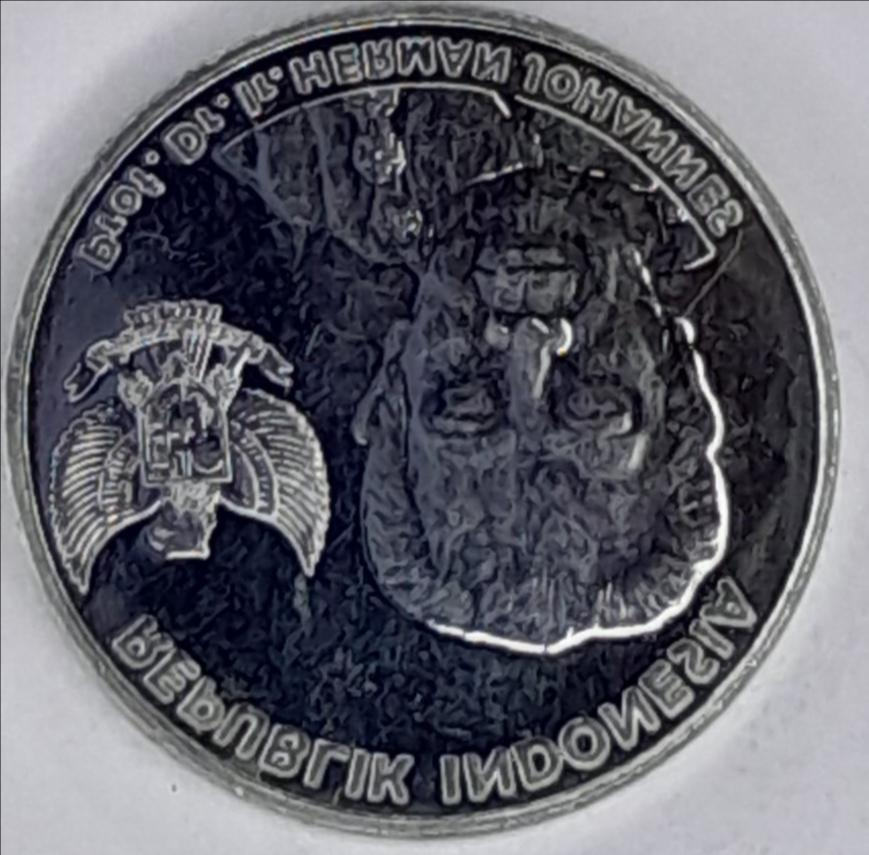coin_100_e2016: (1, 0, 847, 837)
